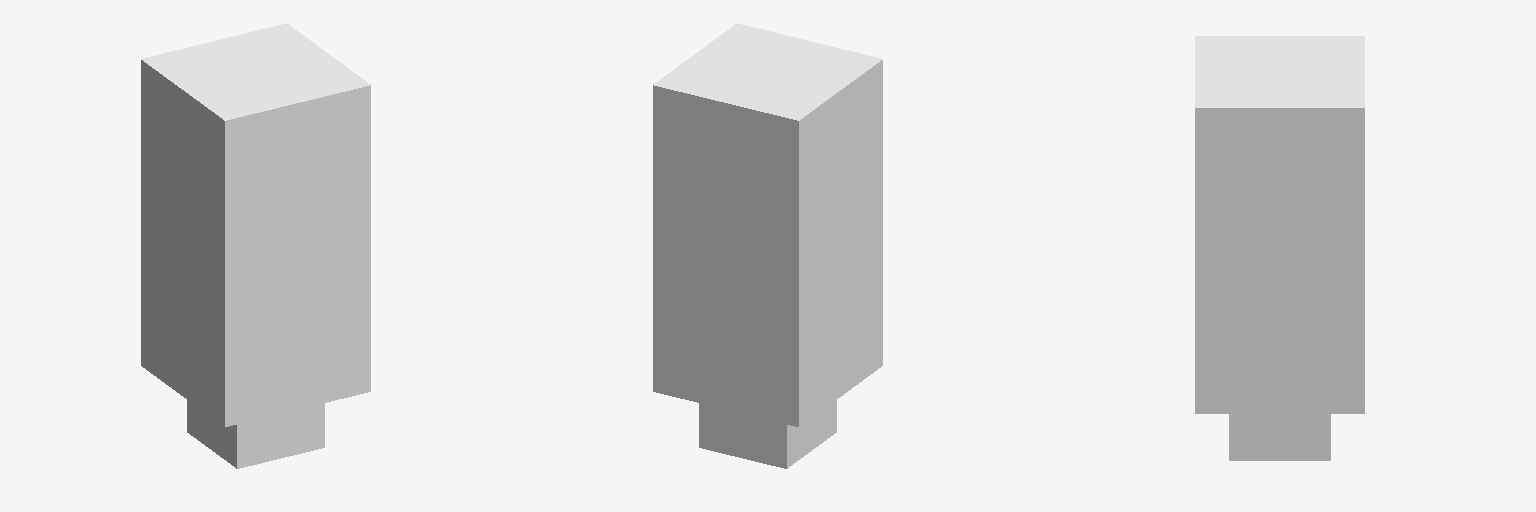
Rendered from treeLongTree.obj.
The picture shows the model from 3 angles: view 1: azimuth 30°, elevation 25°; view 2: azimuth 150°, elevation 25°; view 3: azimuth 270°, elevation 25°; orthographic projection.
Visible parts, largest first — view 1: object 1; view 2: object 1; view 3: object 1.
Part boxes in pixels (left/top/right/bottom): object 1: left=141, top=23, right=370, bottom=468; object 1: left=653, top=23, right=882, bottom=468; object 1: left=1195, top=36, right=1364, bottom=460.
Size of the model in its own units: 0.5 by 1.2 by 0.5.